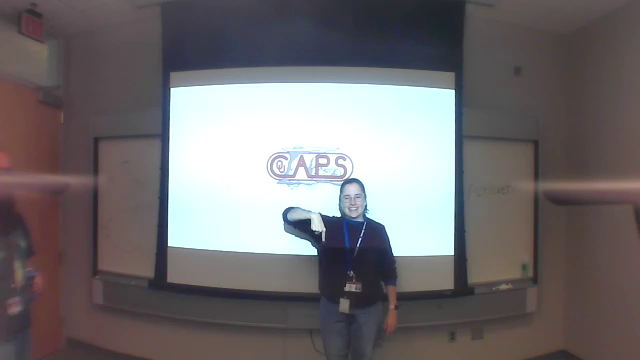down: (307, 210, 332, 247)
